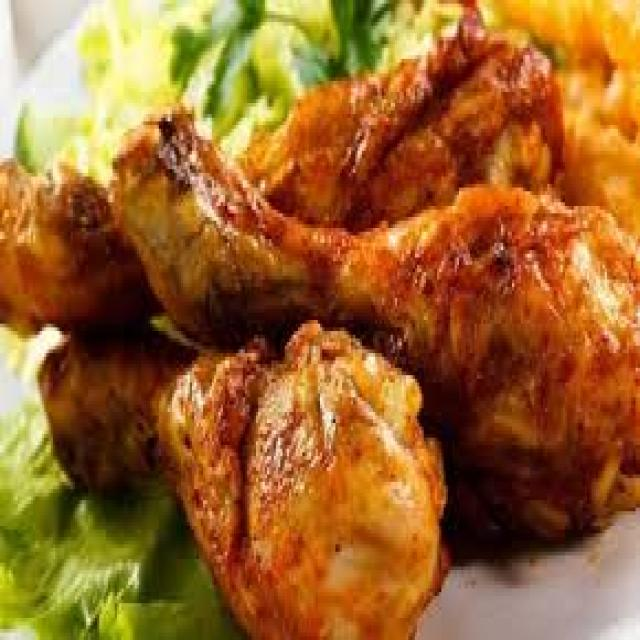Frango: (112, 107, 638, 522), (0, 29, 569, 338), (38, 328, 448, 636)
